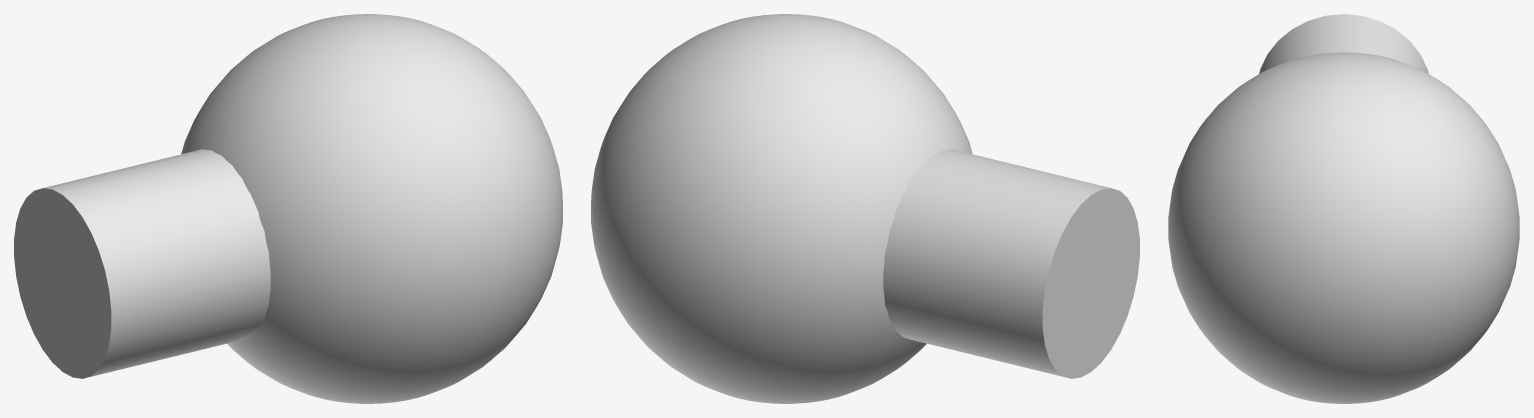
The model's file is DJ2HBr.gltf.
3 views of the same model, side by side, from view 1: azimuth 30°, elevation 25°; view 2: azimuth 150°, elevation 25°; view 3: azimuth 270°, elevation 25° (orthographic). The views are drawn at different scales.
Visible parts, largest first — view 1: 对象006; view 2: 对象006; view 3: 对象006.
Boxes of the visible parts, x1,y1,x2,y2 form: 对象006: (14,14,562,403); 对象006: (591,14,1139,403); 对象006: (1168,14,1519,403).
Bounding box in the file's own units: 8.4 × 6 × 5.99.
Materials: 1 (1 with a texture image).
